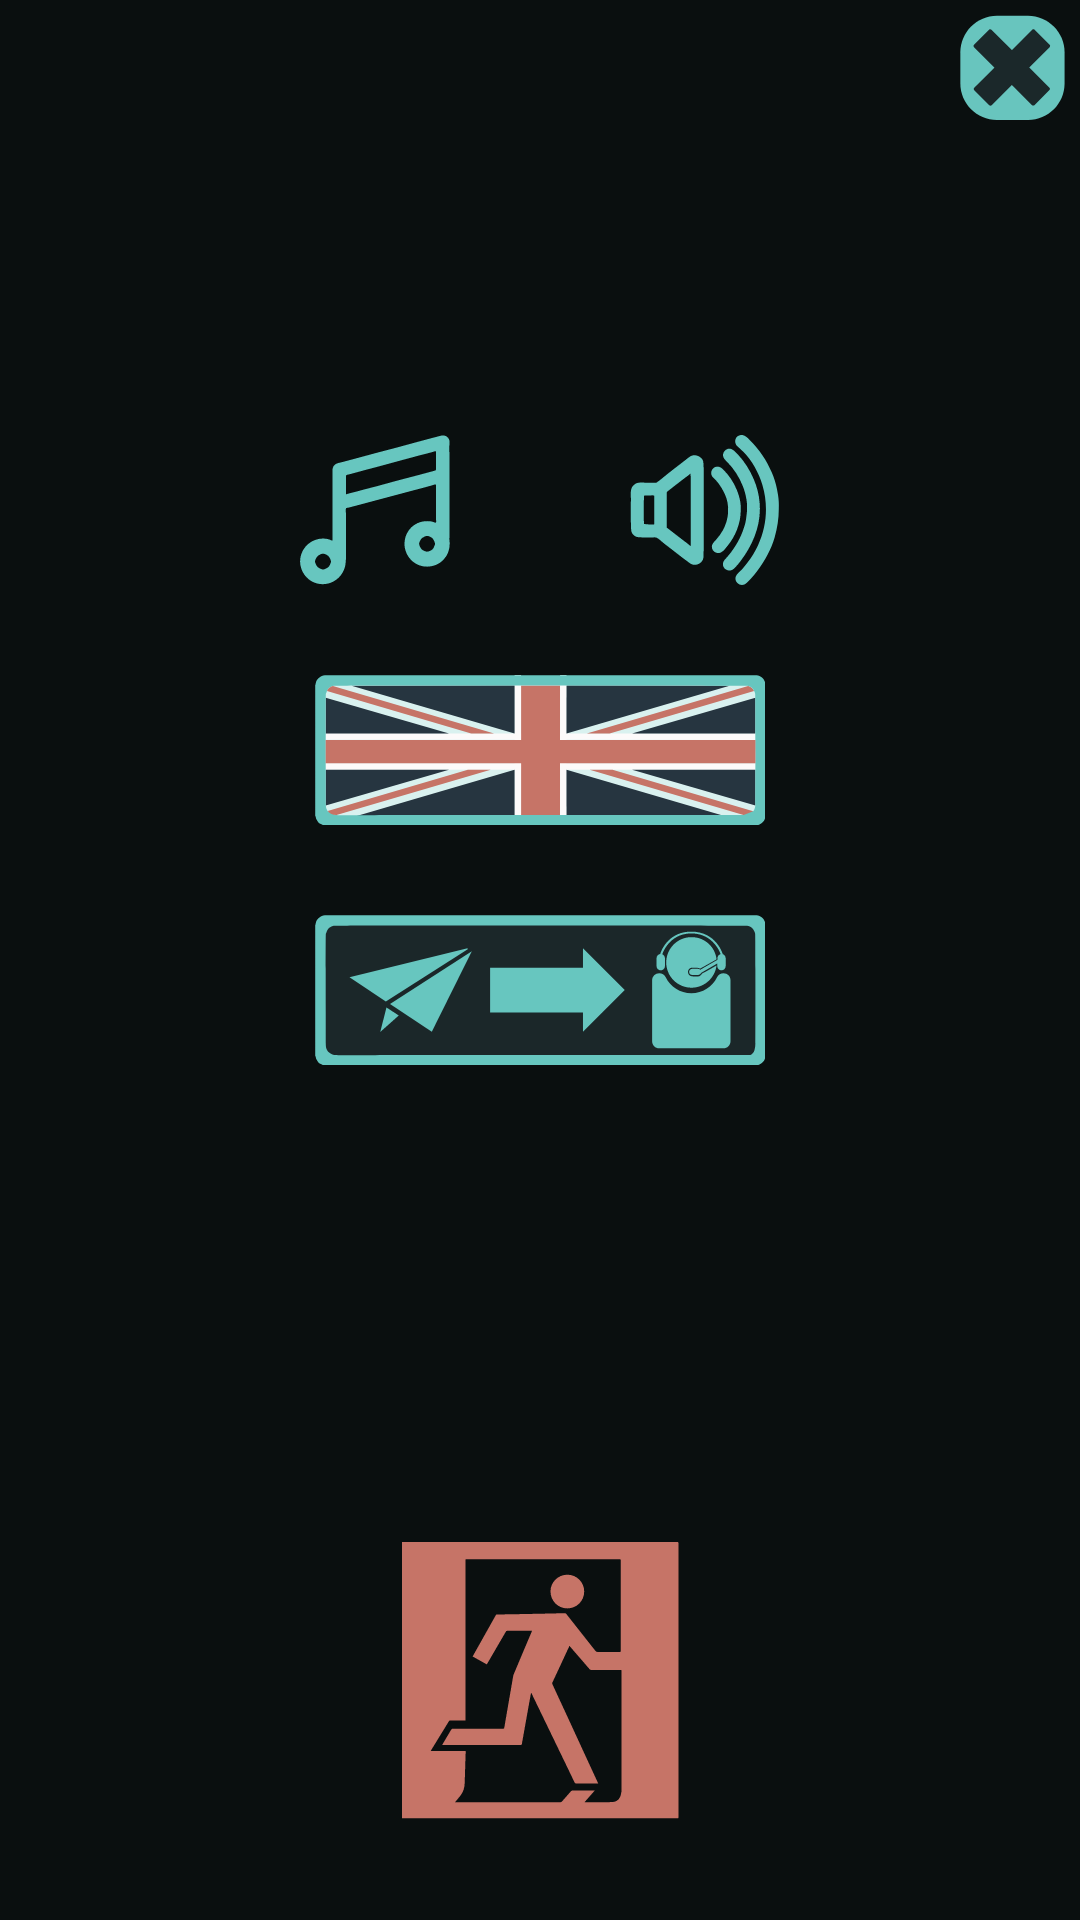

Locate icon controls on the screen. Image size 1080px×1920px, boxes as detection(x1, y1, x2, y2).
settings exit: detection(402, 1542, 679, 1819)
settings note on: detection(300, 435, 450, 585)
settings sound on: detection(630, 435, 779, 585)
